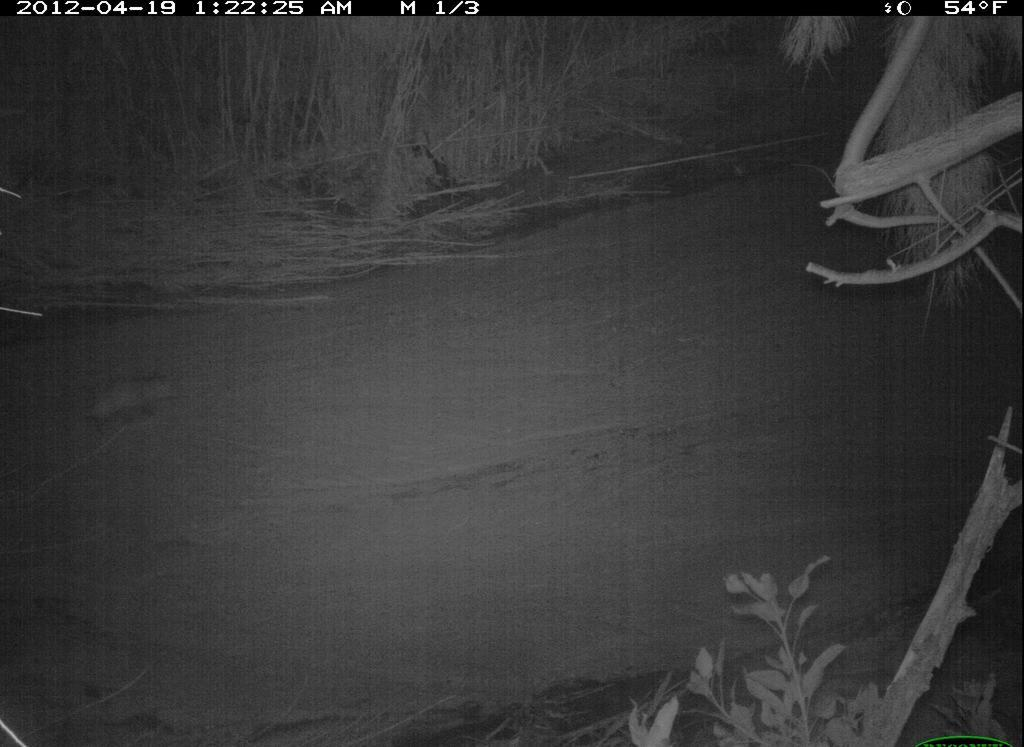opossum: (63, 369, 184, 443)
